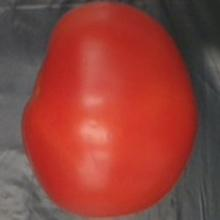unripe: (19, 0, 204, 220)
